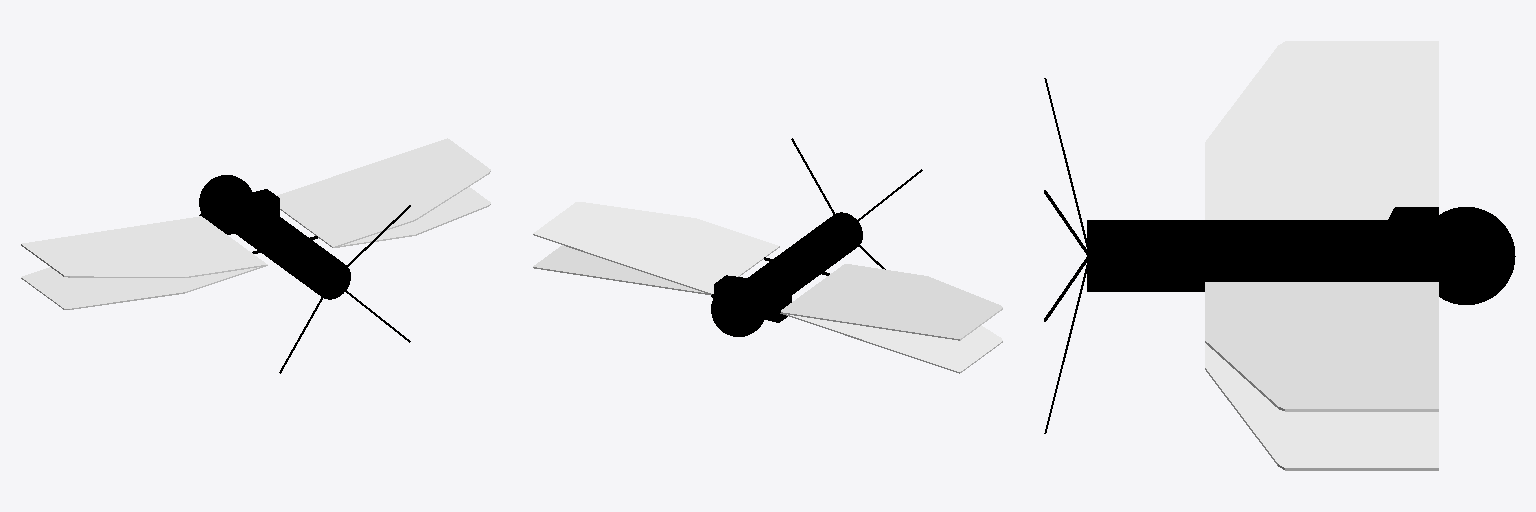
robot.urdf — flapper:
<?xml version="1.0" ?>
<robot name="flapper">
  <link name="base_link">
    <inertial>
      <origin rpy="0 0 0" xyz="-4.19101812440002e-08 0.12776286582420185 0.0"/>
      <mass value="0.333408595011269"/>
      <inertia ixx="0.001649" ixy="-0.0" ixz="0.0" iyy="9.4e-05" iyz="-0.0" izz="0.001668"/>
    </inertial>
    <visual>
      <origin rpy="0 0 0" xyz="0 0 0"/>
      <geometry>
        <mesh filename="./meshes/base_link.stl" scale="0.001 0.001 0.001"/>
      </geometry>
      <material name="Black">
        <color rgba="0.0 0.0 0.0 0.0"/>
      </material>
    </visual>
    <collision>
      <origin xyz="0 0 0"/>
      <geometry>
        <sphere radius="0.30"/>
      </geometry>
    </collision>
  </link>
  
  
  <link name="left_wing_back_1">
    <inertial>
      <origin rpy="0 0 0" xyz="0.06326482306657802 -0.06051126668244686 -0.07422928663834187"/>
      <mass value="0.03802500177087531"/>
      <inertia ixx="0.000125" ixy="-9e-06" ixz="6.4e-05" iyy="0.00013" iyz="1e-05" izz="0.000102"/>
    </inertial>
    <visual>
      <origin rpy="0 0 0" xyz="-0.0375 -0.195 -0.0"/>
      <geometry>
        <mesh filename="./meshes/left_wing_back_1.stl" scale="0.001 0.001 0.001"/>
      </geometry>
      <material name="White">
        <color rgba="1.0 1.0 1.0 1.0"/>
      </material>
    </visual>
  </link>
  
  <joint name="left_wing_back_m" type="revolute">
    <origin rpy="0 0 0" xyz="0.0375 0.195 0.0"/>
    <parent link="base_link"/>
    <child link="left_wing_back_1"/>
    <axis xyz="0.0 0.0 -1.0"/>

  </joint>
  
  
  <link name="right_wing_back_1">
    <inertial>
      <origin rpy="0 0 0" xyz="-0.062115755843106156 -0.06051126668244711 -0.07519346805287182"/>
      <mass value="0.0380250017708754"/>
      <inertia ixx="0.000125" ixy="9e-06" ixz="-6.4e-05" iyy="0.00013" iyz="1e-05" izz="0.000102"/>
    </inertial>
    <visual>
      <origin rpy="0 0 0" xyz="0.0375 -0.195 -0.0"/>
      <geometry>
        <mesh filename="./meshes/right_wing_back_1.stl" scale="0.001 0.001 0.001"/>
      </geometry>
      <material name="White">
        <color rgba="1.0 1.0 1.0 1.0"/>
      </material>
    </visual>
  </link>
  
  <joint name="right_wing_back" type="revolute">
    <origin rpy="0 0 0" xyz="-0.0375 0.195 0.0"/>
    <parent link="base_link"/>
    <child link="right_wing_back_1"/>
    <axis xyz="0.0 0.0 -1.0"/>

  </joint>
  
  
  <link name="right_wing_front_1">
    <inertial>
      <origin rpy="0 0 0" xyz="-0.06326482250778453 -0.06051126668244711 0.07422928663834194"/>
      <mass value="0.03802500177087537"/>
      <inertia ixx="0.000125" ixy="9e-06" ixz="6.4e-05" iyy="0.00013" iyz="-1e-05" izz="0.000102"/>
    </inertial>
    <visual>
      <origin rpy="0 0 0" xyz="0.0375 -0.195 -0.0"/>
      <geometry>
        <mesh filename="./meshes/right_wing_front_1.stl" scale="0.001 0.001 0.001"/>
      </geometry>
      <material name="White">
        <color rgba="1.0 1.0 1.0 1.0"/>
      </material>
    </visual>
  </link>
  
  <joint name="right_wing_front_m" type="revolute">
    <origin rpy="0 0 0" xyz="-0.0375 0.195 0.0"/>
    <parent link="base_link"/>
    <child link="right_wing_front_1"/>
    <axis xyz="0.0 0.0 1.0"/>

  </joint>
  
  
  <link name="left_wing_front_1">
    <inertial>
      <origin rpy="0 0 0" xyz="0.062115756401899584 -0.06051126668244694 0.07519346805287173"/>
      <mass value="0.038025001770875345"/>
      <inertia ixx="0.000125" ixy="-9e-06" ixz="-6.4e-05" iyy="0.00013" iyz="-1e-05" izz="0.000102"/>
    </inertial>
    <visual>
      <origin rpy="0 0 0" xyz="-0.0375 -0.195 -0.0"/>
      <geometry>
        <mesh filename="./meshes/left_wing_front_1.stl" scale="0.001 0.001 0.001"/>
      </geometry>
      <material name="White">
        <color rgba="1.0 1.0 1.0 1.0"/>
      </material>
    </visual>
  </link>
  
  <joint name="left_wing_front" type="revolute">
    <origin rpy="0 0 0" xyz="0.0375 0.195 0.0"/>
    <parent link="base_link"/>
    <child link="left_wing_front_1"/>
    <axis xyz="0.0 0.0 1.0"/>

  </joint>
  
  
</robot>

--- Facts derived from the render (not from the file) ---
3 views of the same robot in one strip: view 1: azimuth 30°, elevation 25°; view 2: azimuth 150°, elevation 25°; view 3: azimuth 270°, elevation 25° (orthographic).
Model flapper with 5 links and 4 joints (4 revolute), rooted at base_link, posed every joint at zero.
Visible links, largest first — view 1: left_wing_front_1, right_wing_front_1, base_link, right_wing_back_1, left_wing_back_1; view 2: left_wing_front_1, right_wing_front_1, base_link, right_wing_back_1, left_wing_back_1; view 3: right_wing_front_1, base_link, left_wing_front_1, left_wing_back_1.
Link boxes in pixels (x1,y1,x2,y2): left_wing_front_1: [277, 138, 490, 247]; right_wing_front_1: [21, 216, 267, 277]; base_link: [199, 175, 410, 373]; right_wing_back_1: [21, 265, 267, 309]; left_wing_back_1: [333, 187, 490, 247]; left_wing_front_1: [533, 202, 779, 294]; right_wing_front_1: [781, 264, 1002, 340]; base_link: [711, 138, 922, 336]; right_wing_back_1: [780, 313, 1002, 373]; left_wing_back_1: [533, 245, 711, 294]; right_wing_front_1: [1205, 41, 1438, 219]; base_link: [1044, 78, 1515, 433]; left_wing_front_1: [1205, 282, 1438, 411]; left_wing_back_1: [1205, 343, 1438, 470].
Size in the robot's own frame: 0.4897 by 0.263 by 0.1512 metres.
Meshes: 5 distinct files referenced, 5 mesh visuals loaded (5 binary STL).